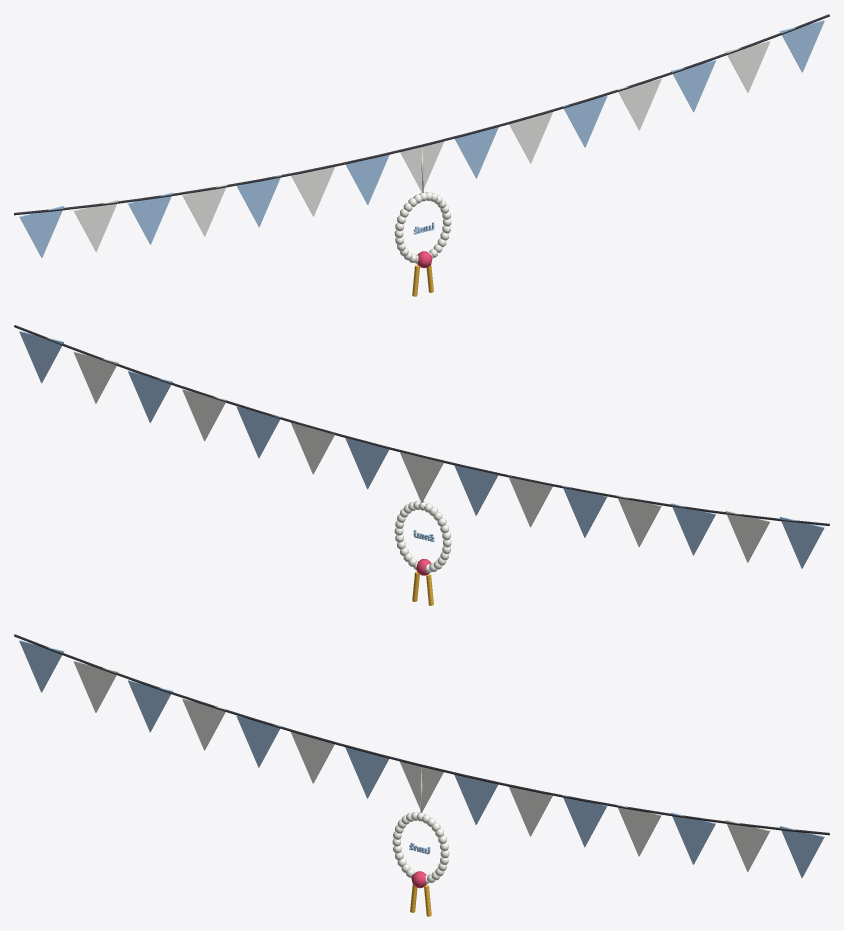
The model's file is SM_MotherBunting.fbx.
The picture shows the model from 3 angles, top to bottom: view 1: azimuth 30°, elevation 25°; view 2: azimuth 150°, elevation 25°; view 3: azimuth 330°, elevation 25°; orthographic projection.
Visible parts, largest first — view 1: SM_MotherBunting; view 2: SM_MotherBunting; view 3: SM_MotherBunting.
Part boxes in pixels (box(x1,y1,x2,y2)): SM_MotherBunting: box(14, 14, 829, 296); SM_MotherBunting: box(14, 325, 829, 605); SM_MotherBunting: box(14, 634, 829, 916).
Size of the model in its own units: 4.4 by 0.9267 by 0.08.
